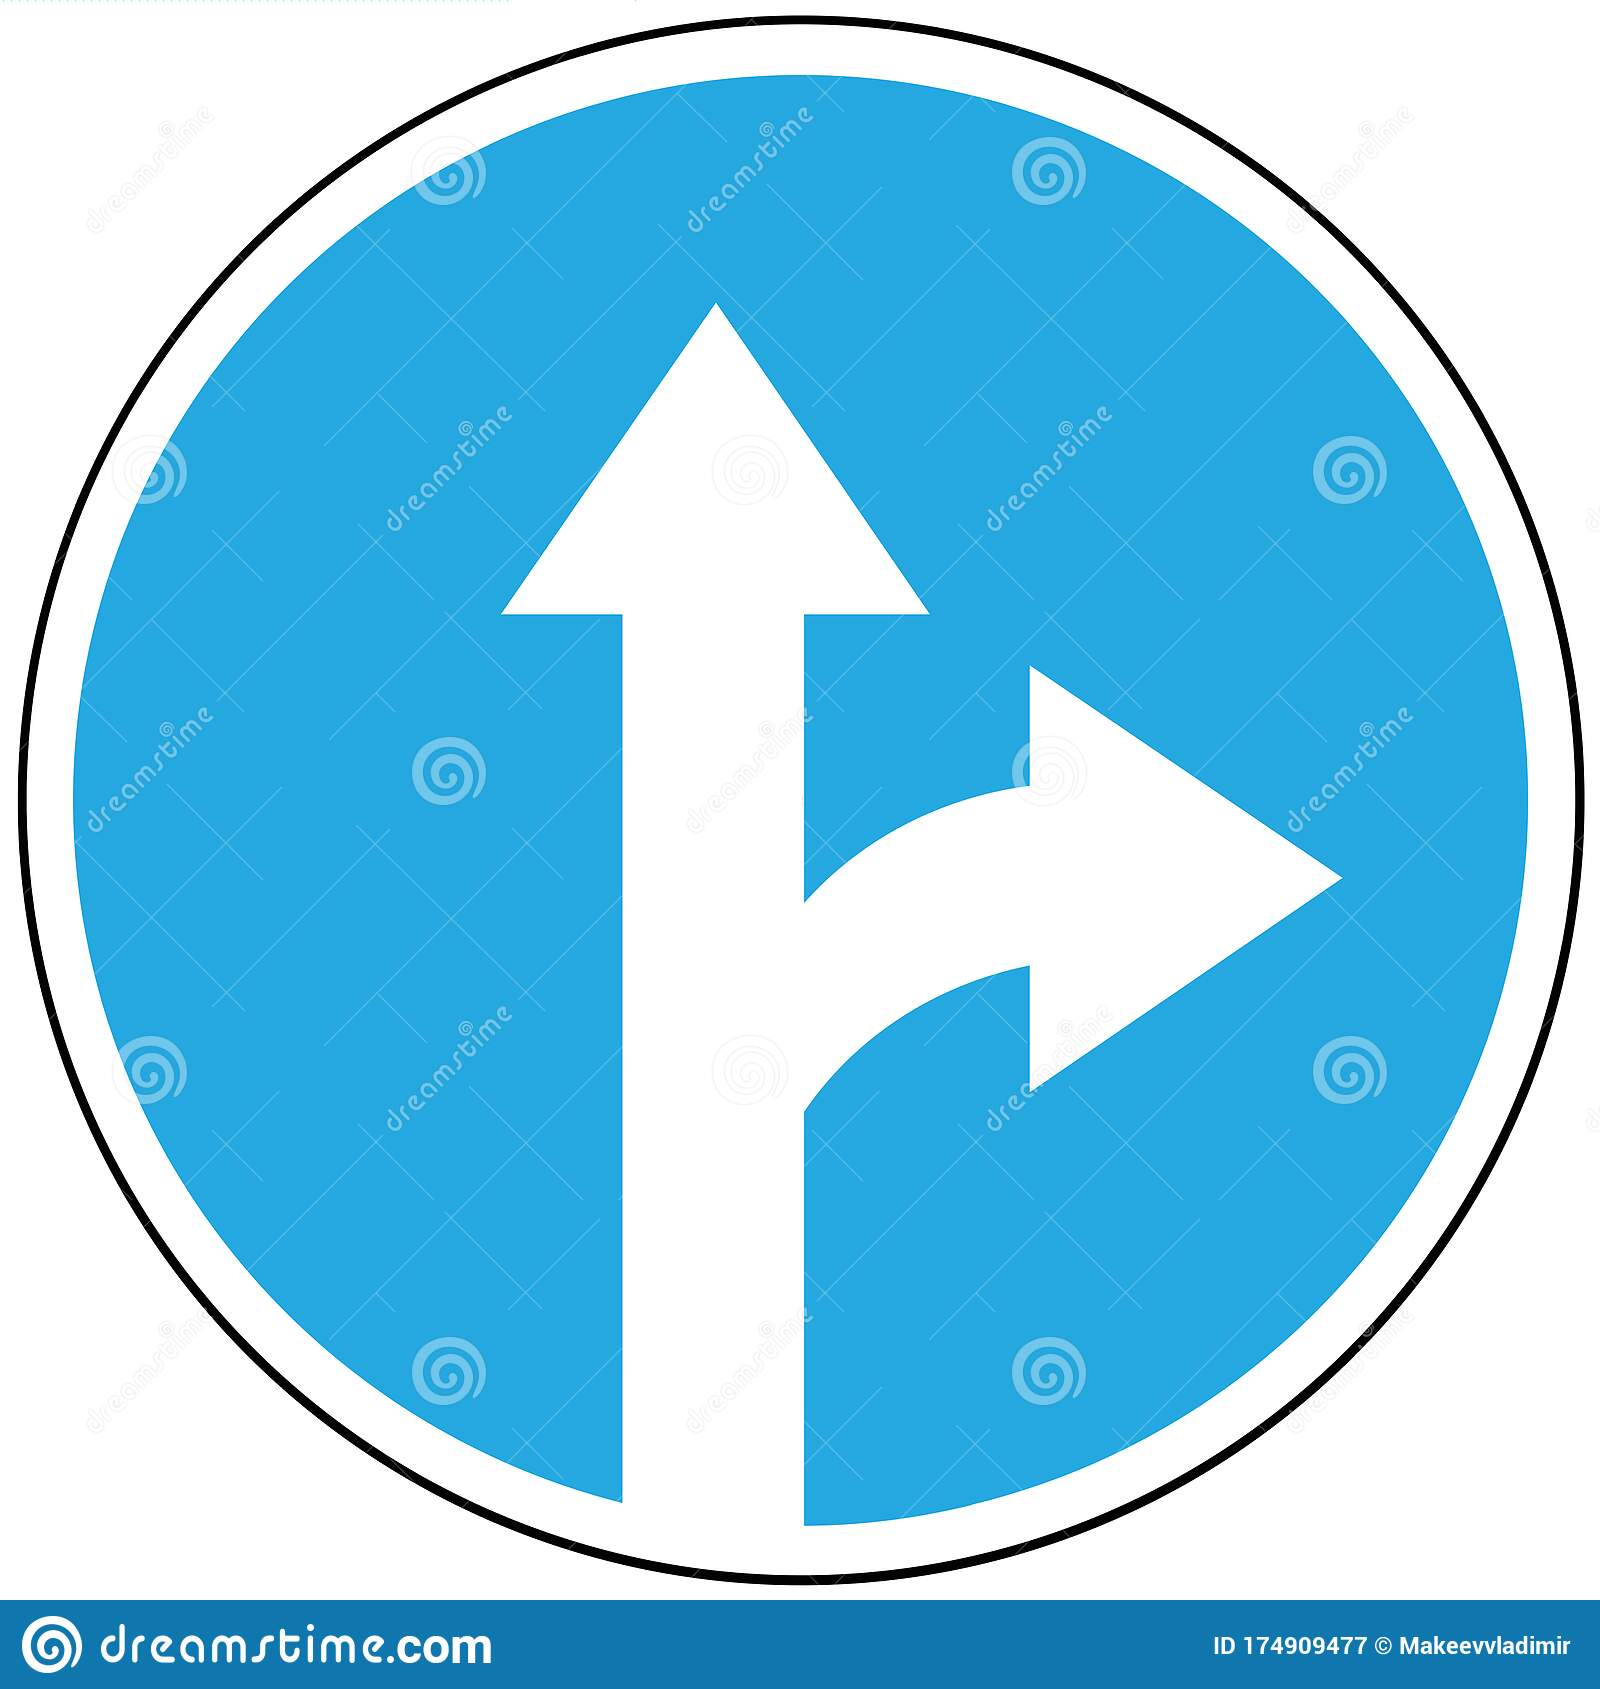ileri_veya_saga: (20, 14, 1589, 1585)
